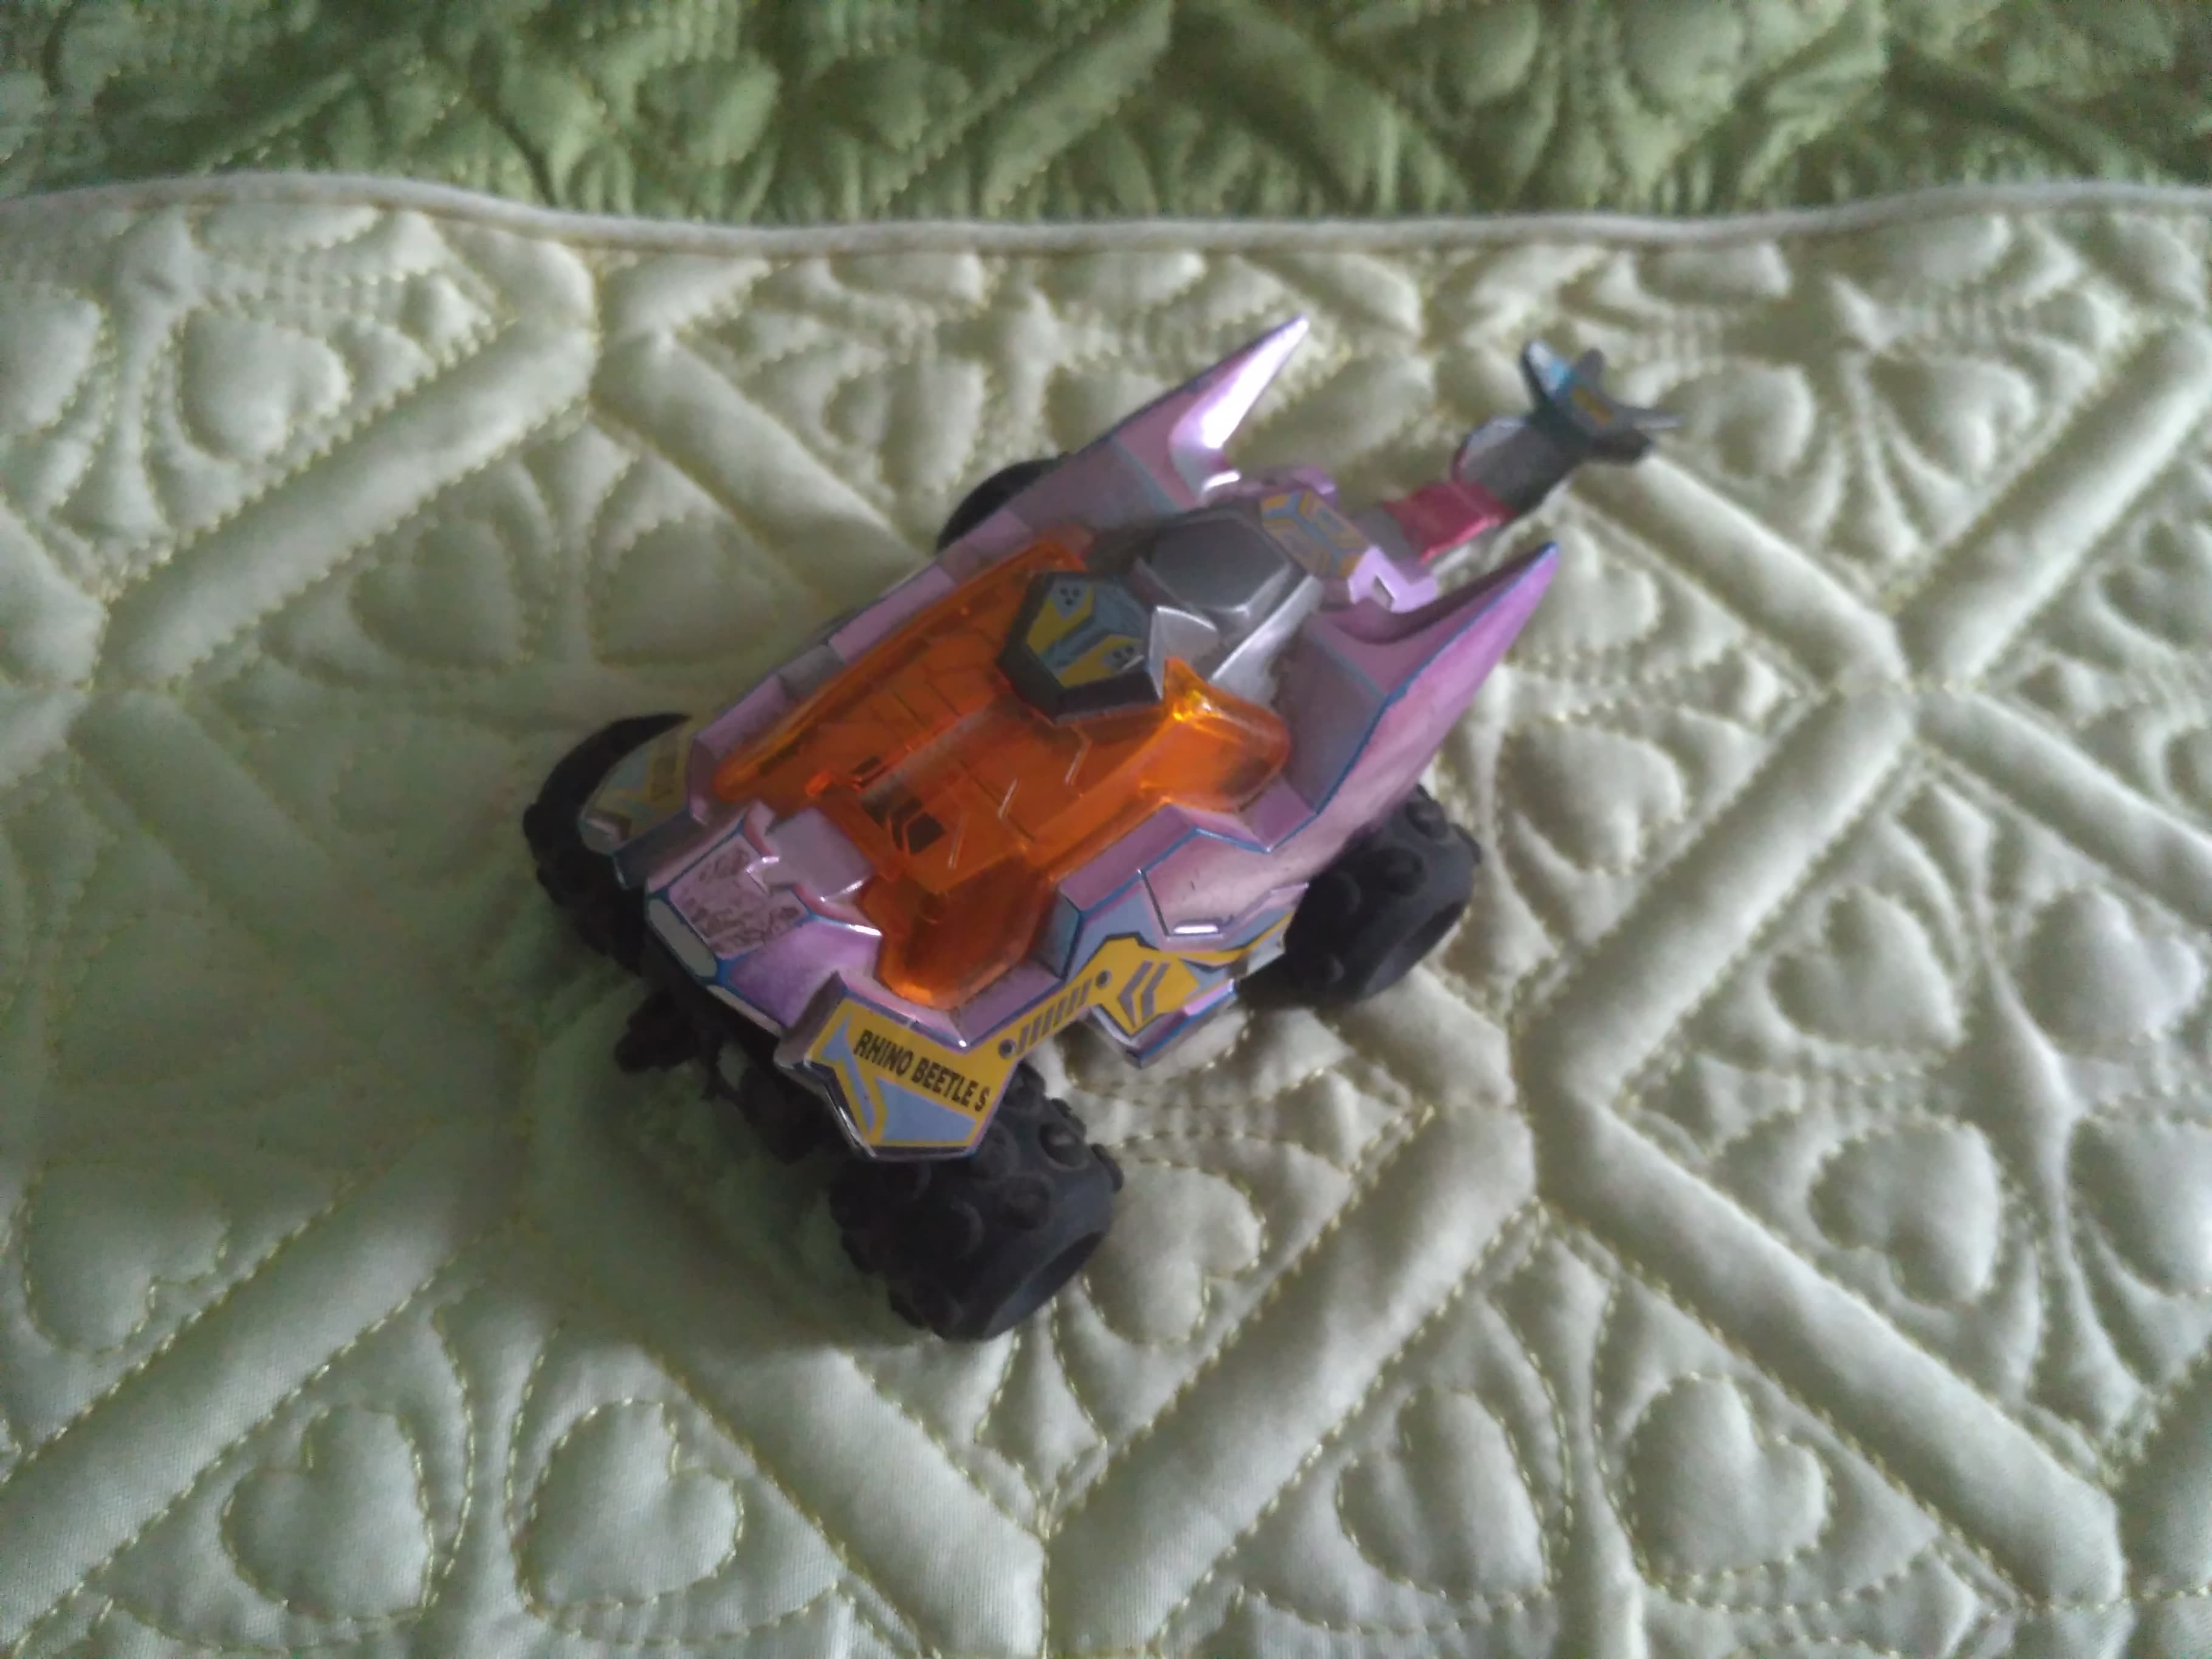rhino: (505, 293, 1689, 1345)
